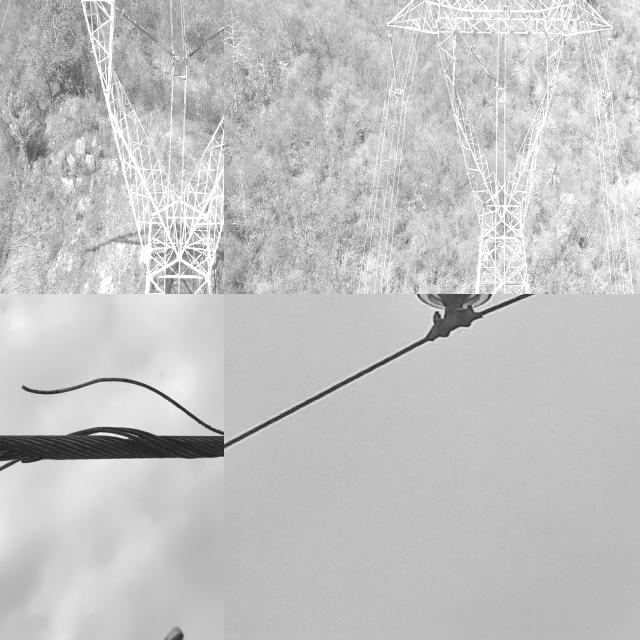杆塔: (378, 0, 614, 294), (0, 0, 224, 294)
正常电缆: (224, 294, 581, 465)
正常绝缘子: (120, 7, 176, 60), (385, 36, 407, 118), (503, 43, 534, 91), (186, 22, 224, 60), (468, 43, 497, 90), (602, 36, 612, 95)
电缆破损: (0, 363, 224, 487)
